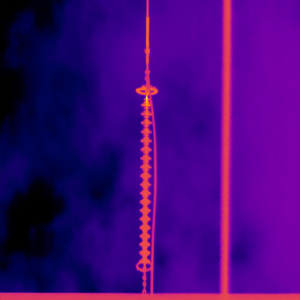insulator: (135, 82, 158, 273)
